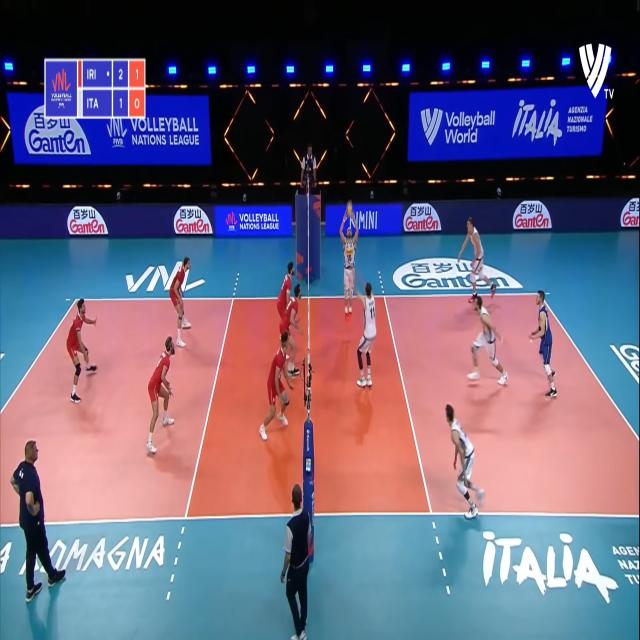player: (444, 402, 487, 522), (469, 291, 508, 394), (146, 336, 178, 454), (67, 298, 100, 410), (350, 271, 378, 394), (259, 329, 290, 437), (531, 288, 561, 399), (459, 215, 496, 303), (336, 209, 360, 323), (279, 285, 304, 378), (170, 254, 192, 355), (277, 261, 296, 329)
